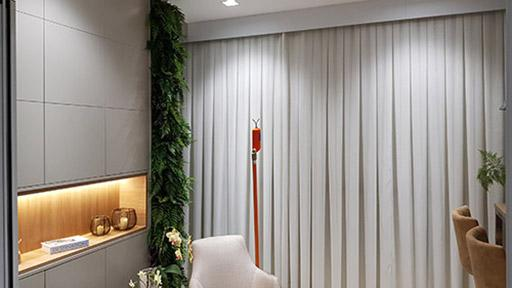Detector_Tensao_Contato: (250, 117, 262, 154)
Vara_Manobra: (251, 152, 260, 268)
